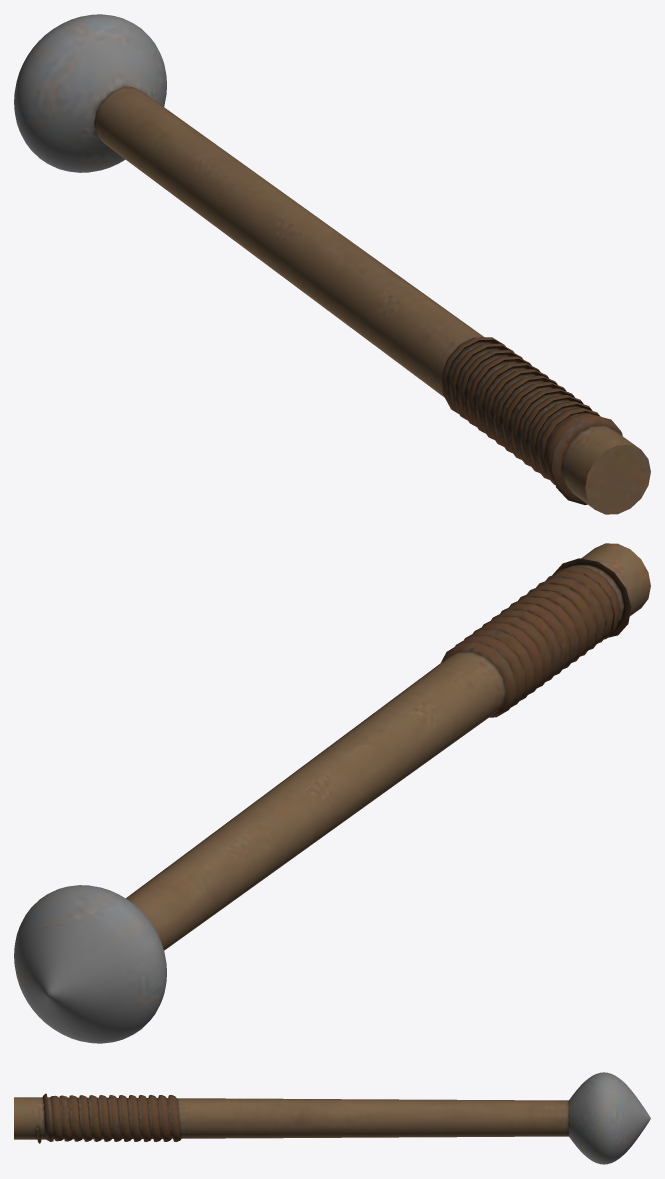
File: ball_mace.glb
3 renders of one model, top to bottom at view 1: azimuth 30°, elevation 25°; view 2: azimuth 150°, elevation 25°; view 3: azimuth 270°, elevation 25°, orthographic. The views are drawn at different scales.
Parts seen in each view (by area): view 1: ball_mace; view 2: ball_mace; view 3: ball_mace.
Part boxes in pixels (bbox=[...]): ball_mace: bbox=[14, 14, 650, 514]; ball_mace: bbox=[14, 543, 650, 1043]; ball_mace: bbox=[14, 1072, 650, 1164].
Bounding box in the file's own units: 0.0782 × 0.0782 × 0.5398.
1 material, 1 textured.
